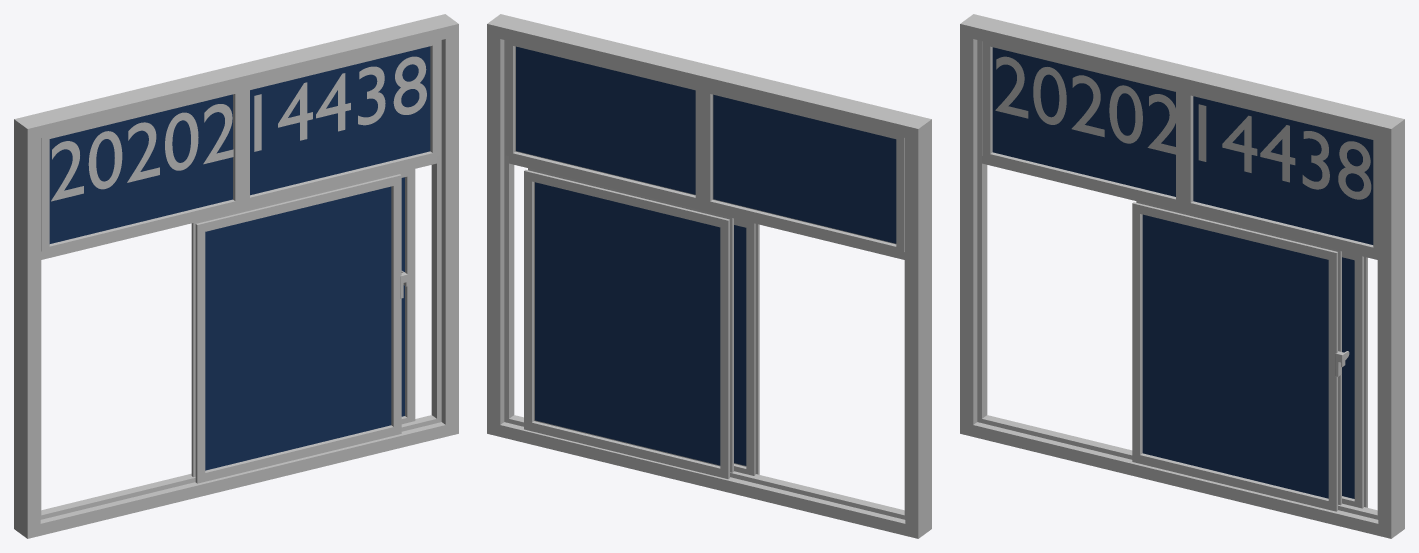
The model's file is window.obj.
3 renders of one model, left to right at view 1: azimuth 30°, elevation 25°; view 2: azimuth 150°, elevation 25°; view 3: azimuth 330°, elevation 25°, orthographic.
Visible parts, largest first — view 1: 立方体.002_立方体.003, 立方体, 立方体.003_立方体.006, 文本, 立方体.001_立方体.005; view 2: 立方体.001_立方体.005, 立方体.003_立方体.006, 立方体, 立方体.002_立方体.003; view 3: 立方体.002_立方体.003, 立方体, 立方体.003_立方体.006, 文本, 立方体.001_立方体.005.
Part boxes in pixels (box(x1,y1,x2,y2)): 立方体.002_立方体.003: box(191, 173, 401, 483); 立方体: box(14, 14, 458, 538); 立方体.003_立方体.006: box(41, 40, 440, 252); 文本: box(51, 56, 426, 201); 立方体.001_立方体.005: box(397, 169, 415, 424); 立方体.001_立方体.005: box(524, 168, 733, 478); 立方体.003_立方体.006: box(505, 40, 904, 252); 立方体: box(487, 14, 931, 538); 立方体.002_立方体.003: box(734, 218, 759, 475); 立方体.002_立方体.003: box(1132, 201, 1341, 511); 立方体: box(960, 14, 1404, 538); 立方体.003_立方体.006: box(982, 41, 1378, 252); 文本: box(995, 56, 1371, 199); 立方体.001_立方体.005: box(1342, 251, 1367, 508).
Size of the model in its own units: 5.49 by 4.99 by 0.297.
